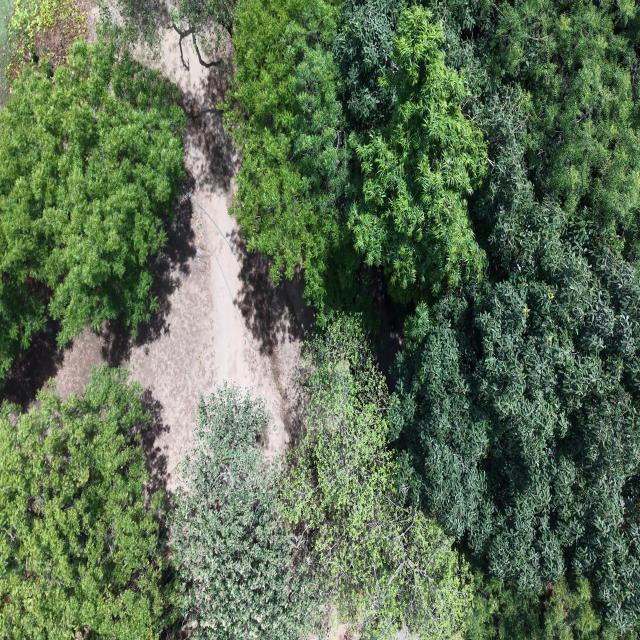DRY_AREA: (0, 30, 312, 489), (4, 30, 312, 488), (56, 30, 311, 487), (0, 0, 13, 106)
VEGETATION_TREE: (0, 0, 639, 639), (325, 0, 639, 632), (0, 318, 618, 639), (392, 3, 639, 633), (0, 317, 473, 639), (228, 0, 639, 320), (392, 204, 639, 628), (171, 317, 472, 639), (226, 0, 486, 325), (0, 41, 184, 379), (282, 317, 471, 639), (435, 0, 639, 260), (0, 366, 174, 639), (473, 0, 639, 259), (348, 6, 486, 303), (226, 0, 352, 316), (171, 385, 323, 639), (465, 574, 636, 639), (101, 0, 235, 72), (333, 0, 406, 130), (2, 0, 87, 78), (98, 0, 178, 56), (170, 0, 235, 67), (176, 0, 235, 39), (0, 0, 13, 107)
